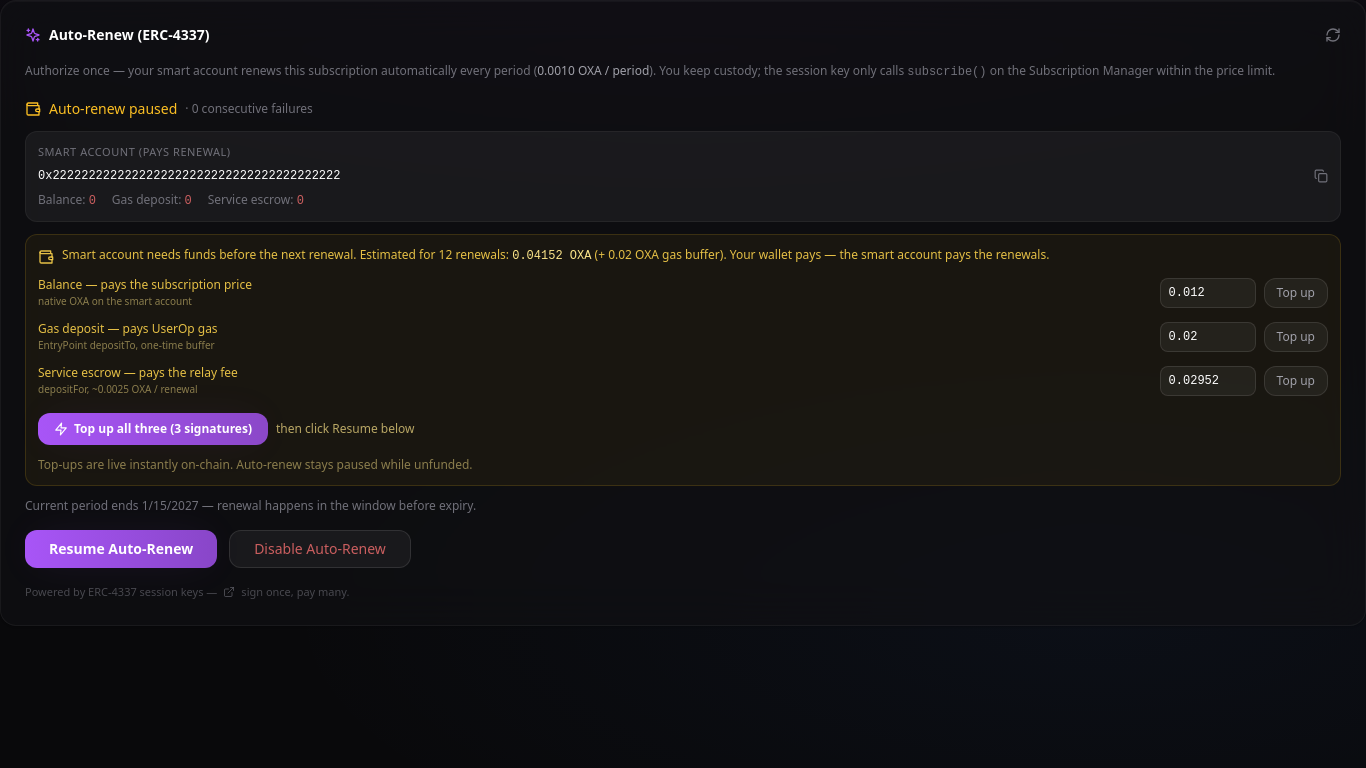
充值 — doTopUp 分支 › 非法金额（指数形式）→ Invalid amount
Expected: the text "Smart account needs funds" is shown, [62,246,509,263]
Replace the text in the number field named "Balance — pays the subscription price" with "1e18": point(1208, 293) [1160,278,1256,308]
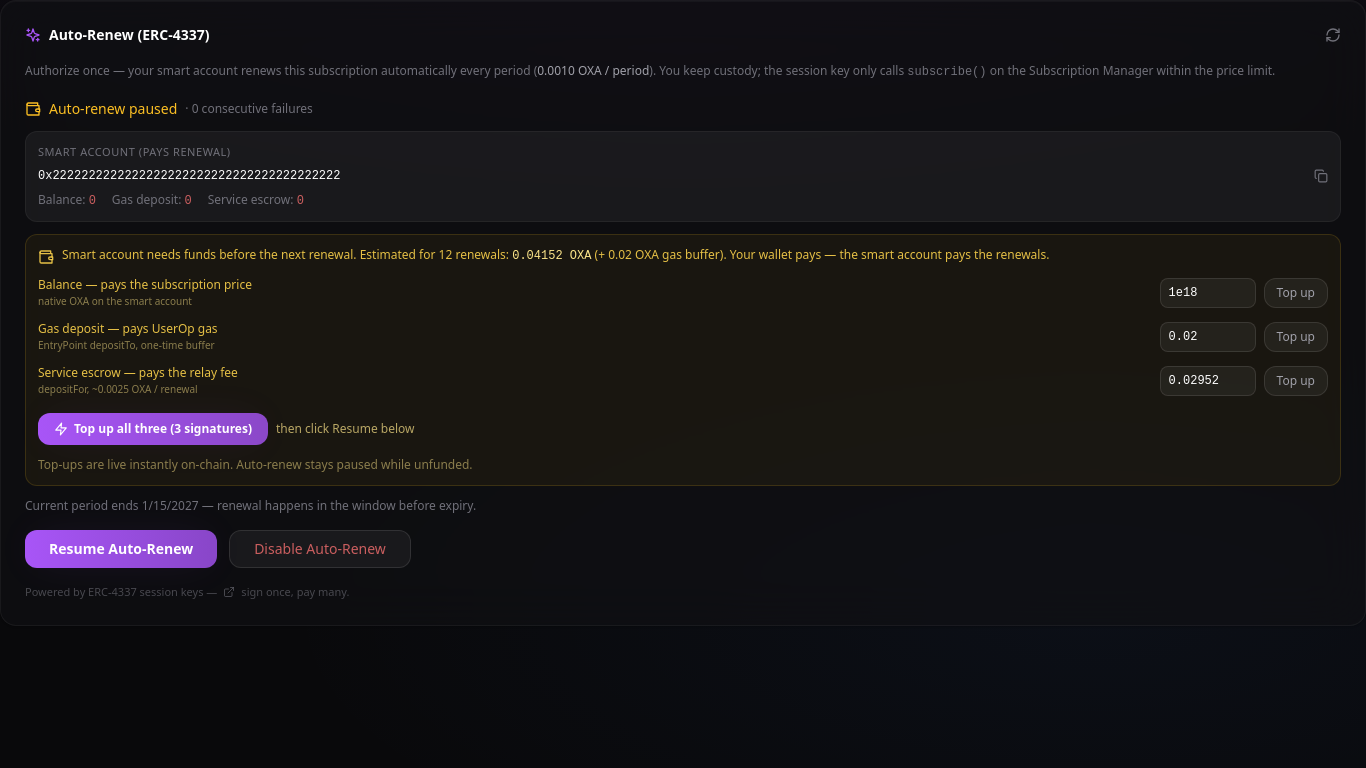
Click the button "Top up" in the row of "Balance — pays the subscription price": point(1296, 293) [1264,278,1328,308]
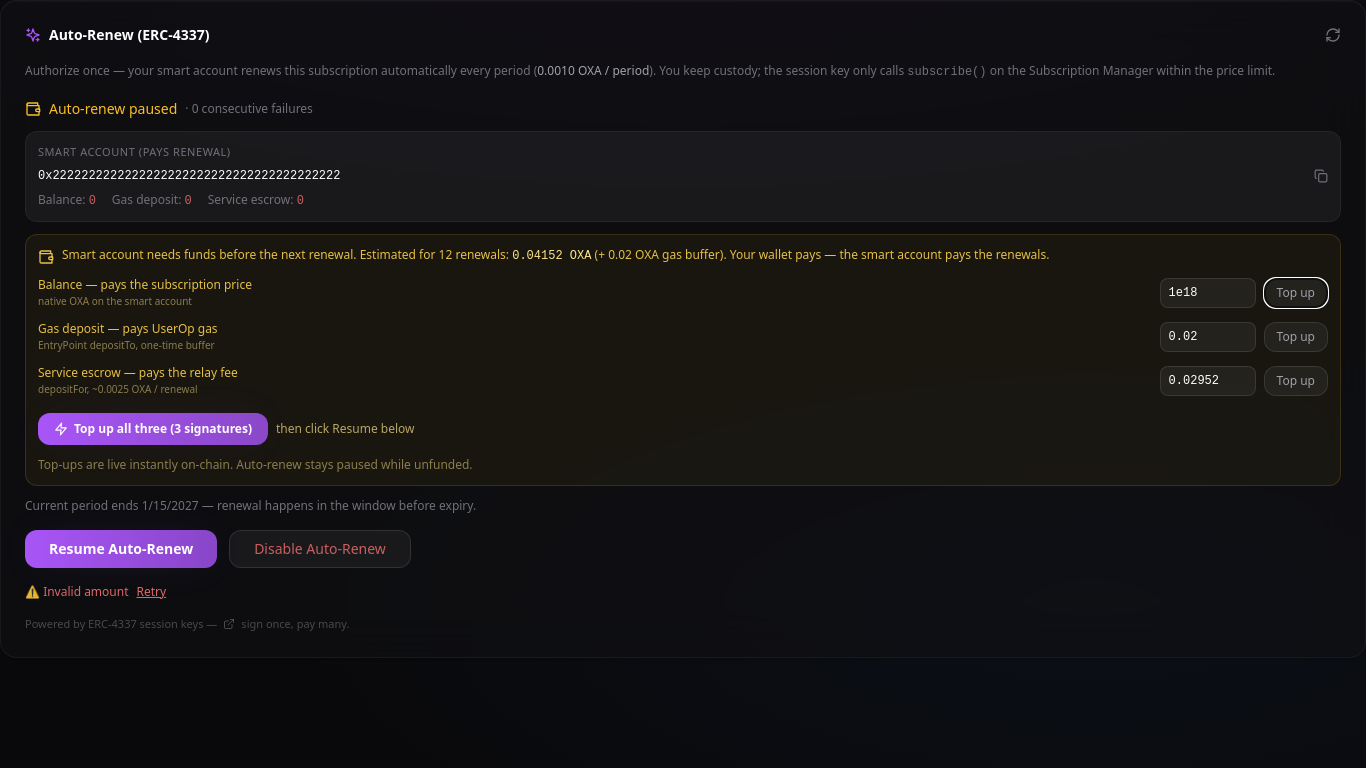
Result: the text "⚠ Invalid amount" is shown at [25,584,128,600]
